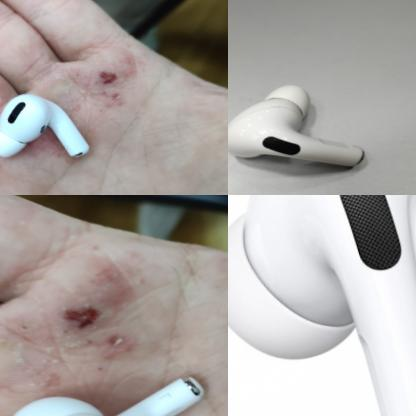Airpods: (228, 195, 416, 416), (228, 63, 383, 195), (0, 327, 222, 416), (0, 77, 91, 193)
